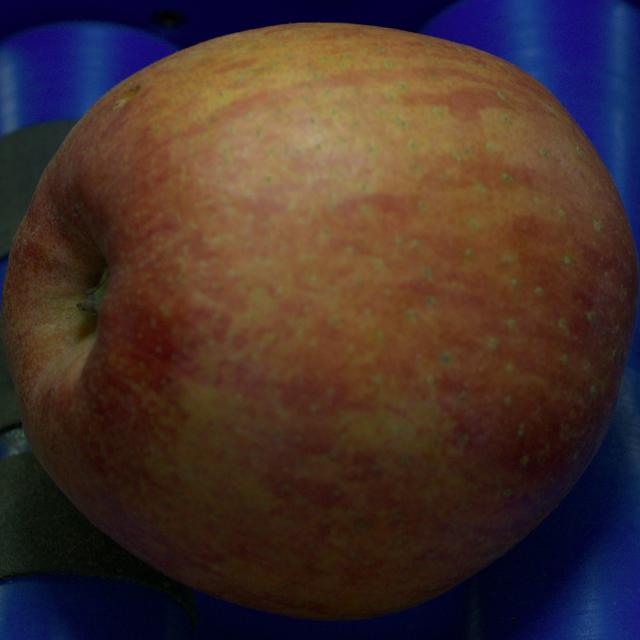apple: (2, 24, 638, 618)
pest: (114, 86, 139, 108)
